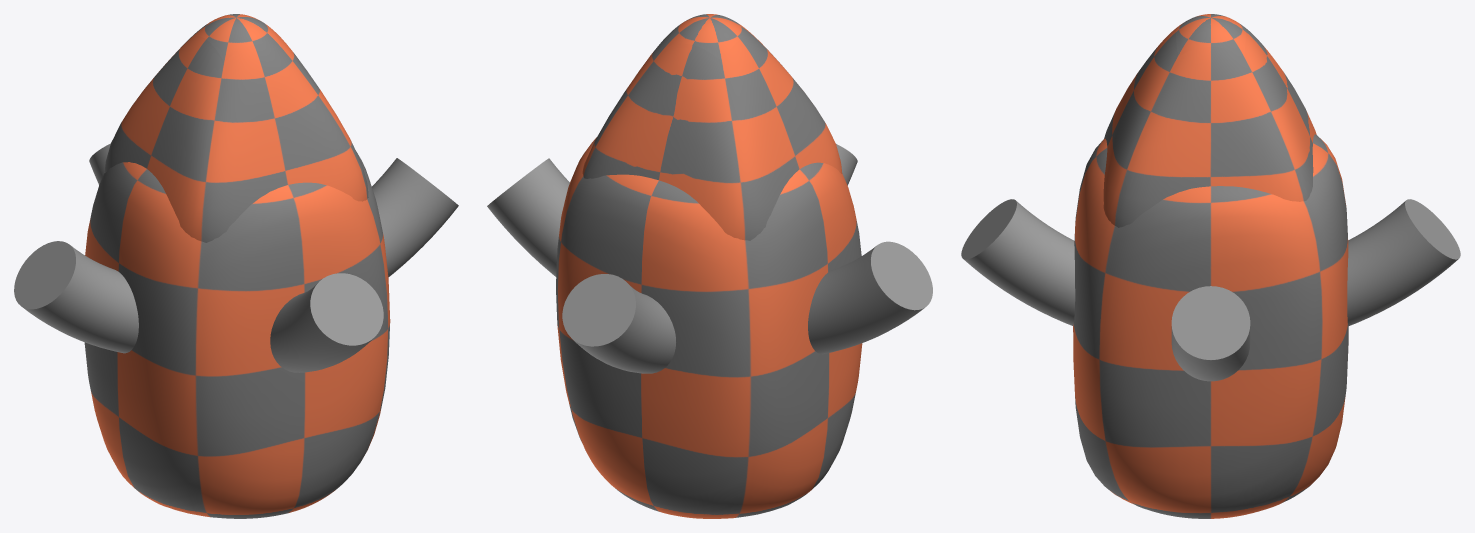
Rendered from Body(Oblong)+Colour(More_Orange)+Pattern(Checkered)+Arm_Angle(Bent_Up)+Hat(Pyramidal).fbx.
3 renders of one model, left to right at view 1: azimuth 30°, elevation 25°; view 2: azimuth 150°, elevation 25°; view 3: azimuth 270°, elevation 25°, orthographic.
Parts seen in each view (by area): view 1: Body(Oblong)+Colour(More_Orange)+Pattern(Checkered)+Arm_Angl (×5); view 2: Body(Oblong)+Colour(More_Orange)+Pattern(Checkered)+Arm_Angl (×5); view 3: Body(Oblong)+Colour(More_Orange)+Pattern(Checkered)+Arm_Angl (×5).
Boxes of the visible parts, x1,y1,x2,y2 form: Body(Oblong)+Colour(More_Orange)+Pattern(Checkered)+Arm_Angl (×5): (14, 14, 458, 518); Body(Oblong)+Colour(More_Orange)+Pattern(Checkered)+Arm_Angl (×5): (487, 14, 932, 518); Body(Oblong)+Colour(More_Orange)+Pattern(Checkered)+Arm_Angl (×5): (961, 14, 1460, 518).
Bounding box in the file's own units: 50.67 × 53 × 50.67.
Materials: 2 (1 with a texture image).
